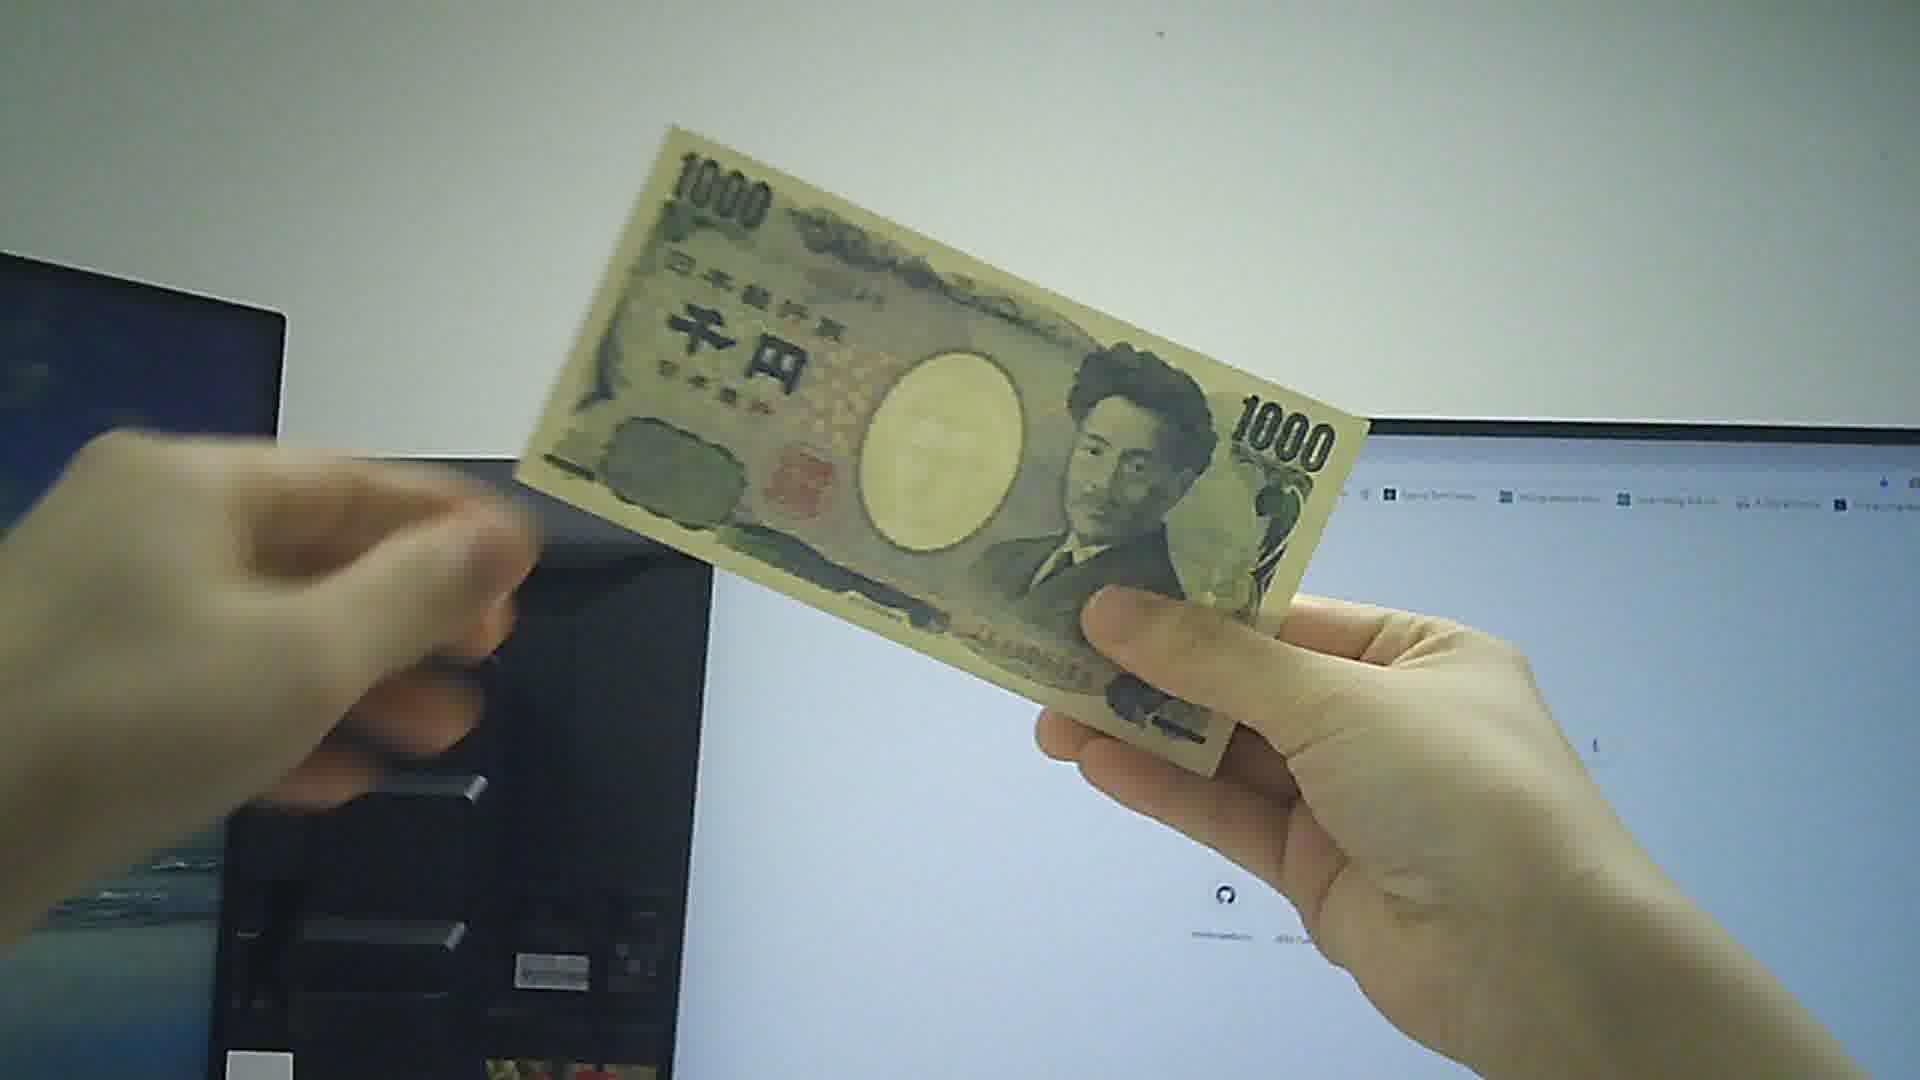1,000 Yen: (505, 123, 1373, 791)
